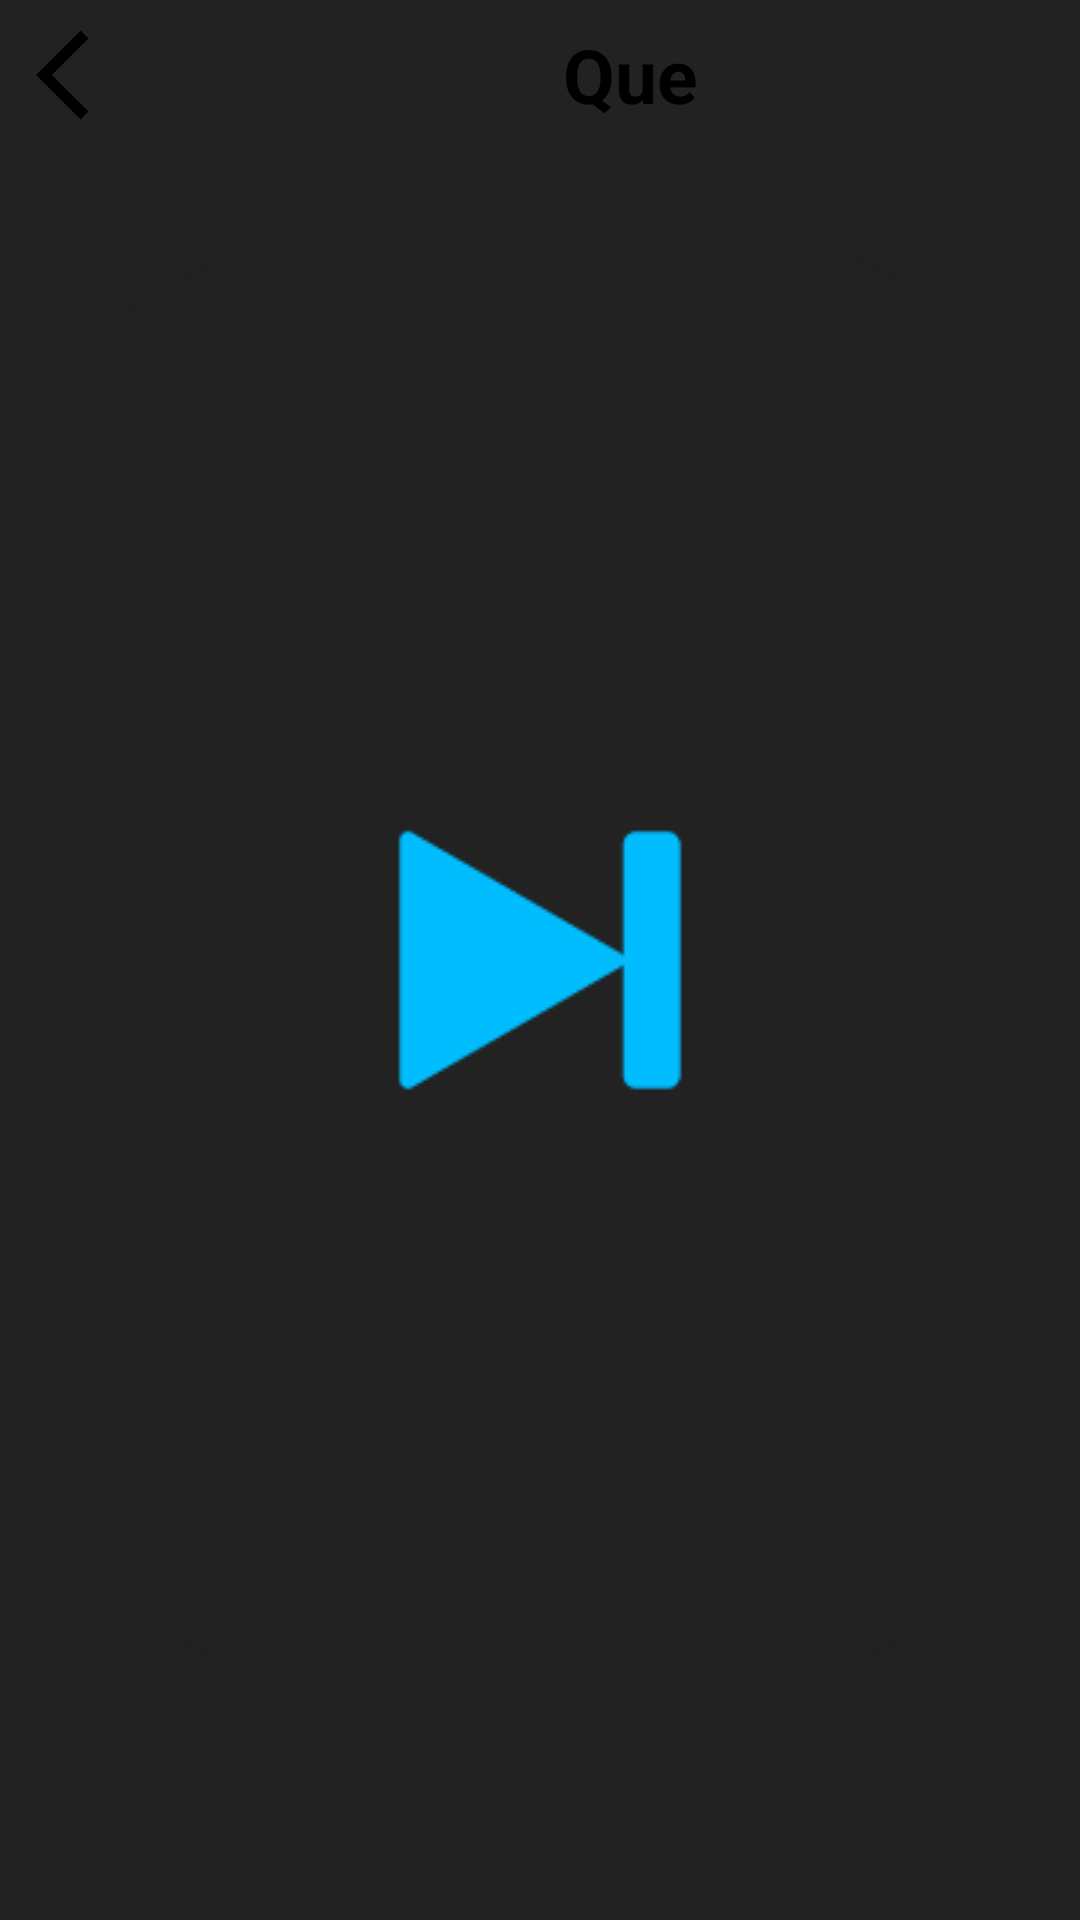

Icon click points for this 1080px×1920px phone screenshot, format (x,y):
Back: (62,75)
